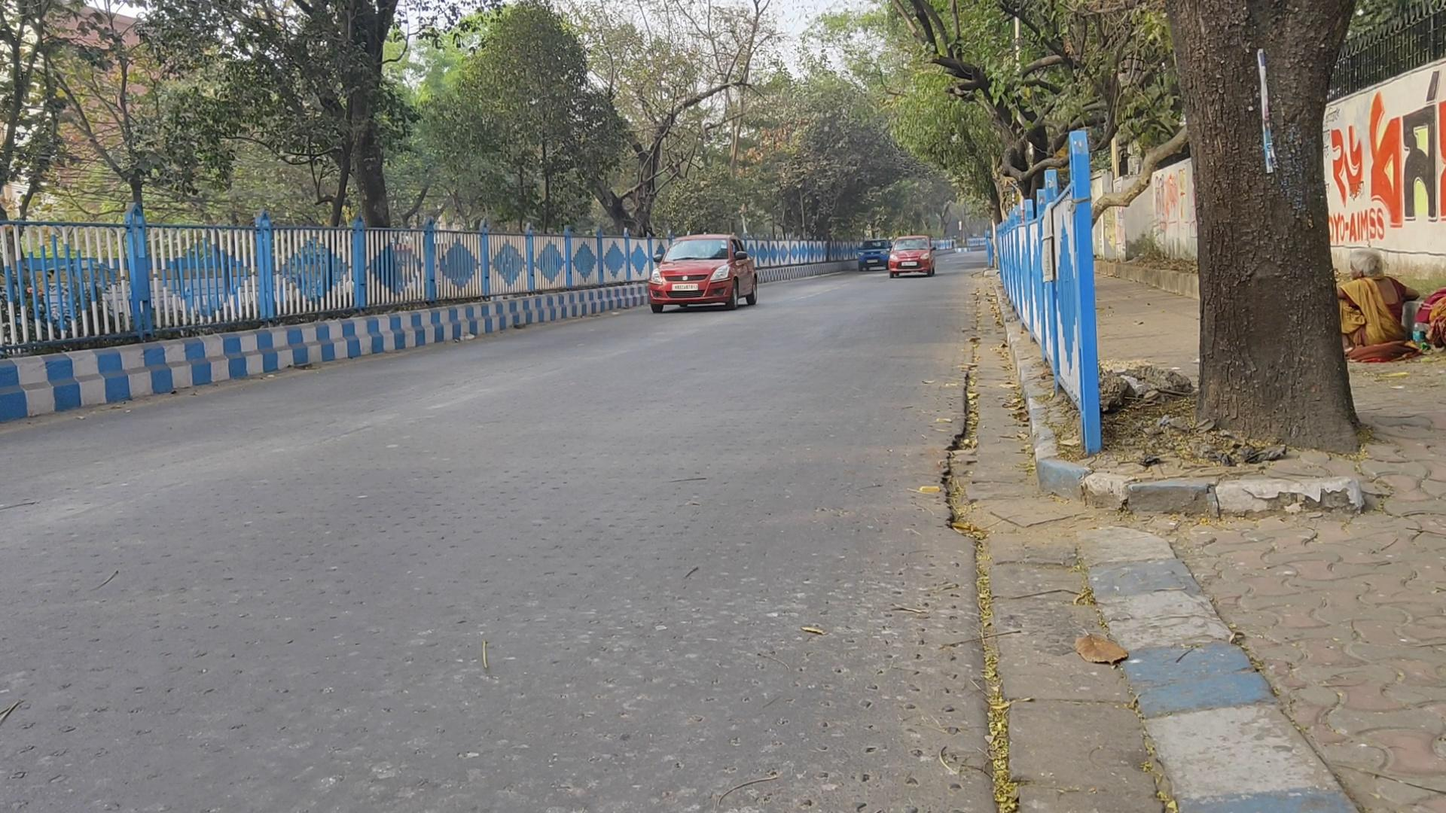car: (648, 233, 759, 312), (889, 233, 937, 281), (856, 238, 895, 272)
